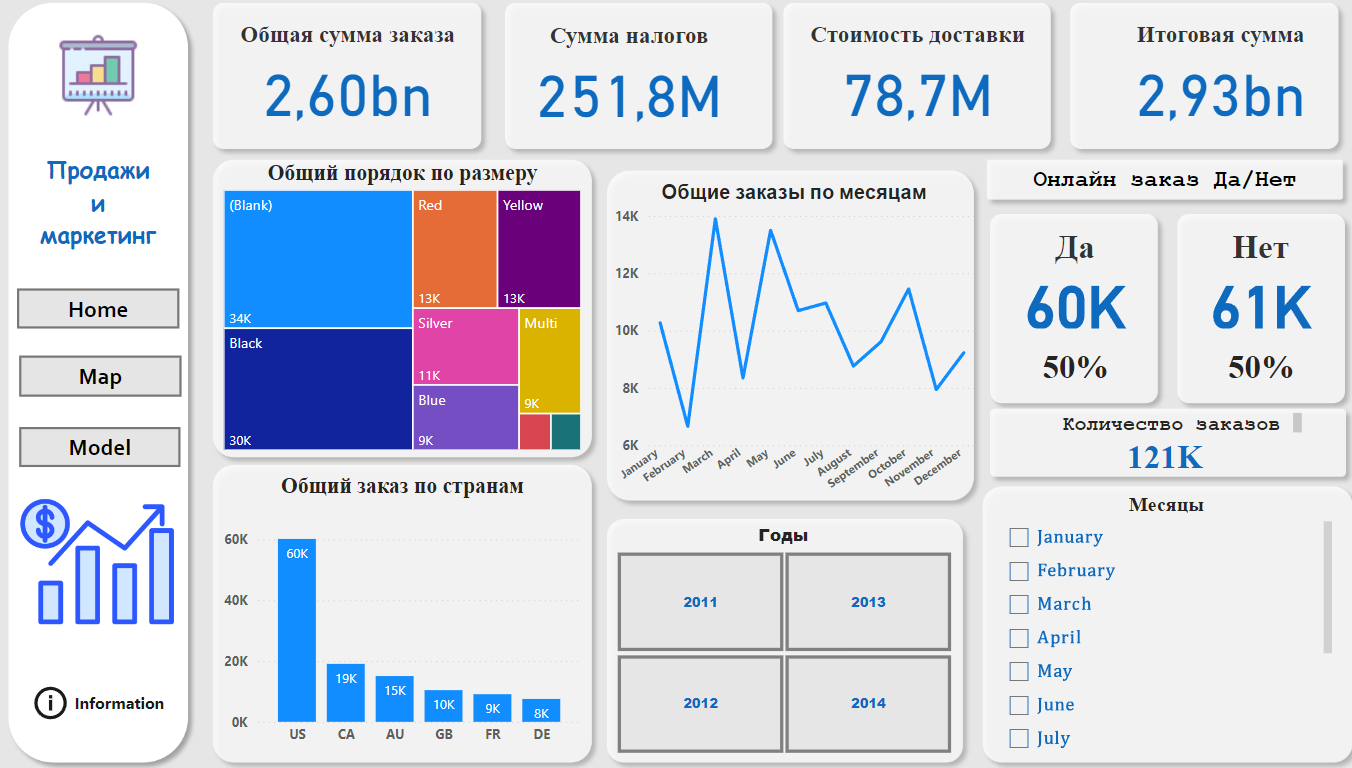

The page's visual inventory and layout, read from the dashboard file:
{"tool":"powerbi","page":{"name":"Home","canvas":[1280,720],"ordinal":0},"visuals":[{"type":"shape","box":[20,0,184.3,720],"z":0},{"type":"shape","box":[1001.4,0,265.7,152.9],"z":1000},{"type":"shape","box":[479,0,265.4,153.2],"z":2000},{"type":"shape","box":[735.7,0,265.7,152.9],"z":3000},{"type":"shape","box":[209.3,0,265.3,153.3],"z":4000},{"type":"shape","box":[209.3,427.2,367.5,293.3],"z":5000},{"type":"shape","box":[573.2,154.6,356.6,323.7],"z":6000},{"type":"shape","box":[572.9,477.1,347.1,242.9],"z":7000},{"type":"shape","box":[927.3,194.7,172.8,193.5],"z":8000},{"type":"shape","box":[920,446.6,360.2,273.8],"z":9000},{"type":"textbox","box":[15.7,142.4,191.8,102.5],"z":10000},{"type":"card","title":"Общая сумма заказа","fields":{"Values":["Sum(marketin_sales_table.SubTotal)"]},"box":[233.7,25.6,217.8,99.8],"z":11000},{"type":"card","title":"Сумма налогов","fields":{"Values":["Sum(marketin_sales_table.TaxAmt)"]},"box":[494.1,26.8,216.6,99.8],"z":12000},{"type":"card","title":" Cтоимость доставки","fields":{"Values":["Sum(marketin_sales_table.Freight)"]},"box":[760.6,25.6,216.6,99.8],"z":13000},{"type":"card","title":"Итоговая сумма","fields":{"Values":["Sum(marketin_sales_table.TotalDue)"]},"box":[1040.5,25.6,216.6,99.8],"z":14000},{"type":"shape","box":[1100.1,194.7,172.8,193.5],"z":15000},{"type":"shape","box":[923.7,144.8,346.8,54.8],"z":16000},{"type":"textbox","box":[961.4,154.6,272.6,41.4],"z":17000},{"type":"card","title":"Да","fields":{"Values":["marketin_sales_table.online_one"]},"box":[940.7,217.8,147.3,97.4],"z":18000},{"type":"card","title":"Нет","fields":{"Values":["marketin_sales_table.offline_one"]},"box":[1112.3,217.8,147.3,97.4],"z":19000},{"type":"card","title":"Да","fields":{"Values":["marketin_sales_table.% online"]},"box":[965.1,315.2,99.8,58.4],"z":20000},{"type":"card","title":"Да","fields":{"Values":["marketin_sales_table.% offline"]},"box":[1136.6,315.2,99.8,58.4],"z":21000},{"type":"shape","box":[927.3,374.8,346.8,81.5],"z":22000},{"type":"textbox","box":[985.7,383.3,243.4,28],"z":23000},{"type":"card","fields":{"Values":["marketin_sales_table.count_rows_columns"]},"box":[1033.2,407.7,129,38.9],"z":24000},{"type":"slicer","title":"Годы","fields":{"Values":["marketin_sales_table.OrderDate.Variation.Date Hierarchy.Year"]},"box":[565.9,488,357.8,221.5],"z":25000},{"type":"lineChart","title":"Общие заказы по месяцам","fields":{"Category":["marketin_sales_table.OrderDate.Variation.Date Hierarchy.Month"],"Y":["marketin_sales_table.count_rows_columns"]},"box":[582.9,172.8,344.4,295.7],"z":26000},{"type":"slicer","title":"Месяцы","fields":{"Values":["marketin_sales_table.OrderDate.Variation.Date Hierarchy.Month"]},"box":[940.7,462.4,316.4,243.4],"z":27000},{"type":"clusteredColumnChart","title":"Общий заказ по странам","fields":{"Category":["marketin_sales_table.CountryRegionCode"],"Y":["marketin_sales_table.count_rows_columns"]},"box":[222.7,444.2,340.8,259.2],"z":28000},{"type":"shape","box":[209.3,144.8,367.5,293.3],"z":29000},{"type":"treemap","title":"Общий порядок по размеру","fields":{"Group":["marketin_sales_table.Color"],"Values":["marketin_sales_table.count_rows_columns"]},"box":[222.7,154.6,340.8,272.6],"z":30000},{"type":"image","box":[62.7,30.2,97.7,91.7],"z":31000},{"type":"actionButton","title":"Map","box":[38.6,335.4,150.8,37.4],"z":32000},{"type":"actionButton","title":"Home","box":[37.4,272.7,149.6,37.4],"z":33000},{"type":"actionButton","box":[38.6,400.5,149.6,37.4],"z":34000},{"type":"image","box":[35,446.4,152,156.8],"z":35000},{"type":"actionButton","box":[48.3,635.8,129.1,39.8],"z":36000}]}

Visuals, with their boxes in screenshot pixels (x1, y1, x2, y2), scaled from the page's 1280x720 canvas onto the 1352x768 screenshot:
shape: box(21, 0, 216, 767)
shape: box(1058, 0, 1338, 163)
shape: box(506, 0, 786, 163)
shape: box(777, 0, 1058, 163)
shape: box(221, 0, 501, 164)
shape: box(221, 456, 609, 767)
shape: box(605, 165, 982, 510)
shape: box(605, 509, 972, 767)
shape: box(979, 208, 1162, 414)
shape: box(972, 476, 1351, 767)
textbox: box(17, 152, 219, 261)
"Общая сумма заказа" card: box(247, 27, 477, 134)
"Сумма налогов" card: box(522, 29, 751, 135)
" Cтоимость доставки" card: box(803, 27, 1032, 134)
"Итоговая сумма" card: box(1099, 27, 1328, 134)
shape: box(1162, 208, 1345, 414)
shape: box(976, 154, 1342, 213)
textbox: box(1015, 165, 1303, 209)
"Да" card: box(994, 232, 1149, 336)
"Нет" card: box(1175, 232, 1330, 336)
"Да" card: box(1019, 336, 1125, 399)
"Да" card: box(1201, 336, 1306, 399)
shape: box(979, 400, 1346, 487)
textbox: box(1041, 409, 1298, 439)
card - marketin_sales_table.count_rows_columns: box(1091, 435, 1228, 476)
"Годы" slicer: box(598, 521, 976, 757)
"Общие заказы по месяцам" lineChart: box(616, 184, 979, 500)
"Месяцы" slicer: box(994, 493, 1328, 753)
"Общий заказ по странам" clusteredColumnChart: box(235, 474, 595, 750)
shape: box(221, 154, 609, 467)
"Общий порядок по размеру" treemap: box(235, 165, 595, 456)
image: box(66, 32, 169, 130)
"Map" actionButton: box(41, 358, 200, 398)
"Home" actionButton: box(40, 291, 198, 331)
actionButton: box(41, 427, 199, 467)
image: box(37, 476, 198, 643)
actionButton: box(51, 678, 187, 721)
